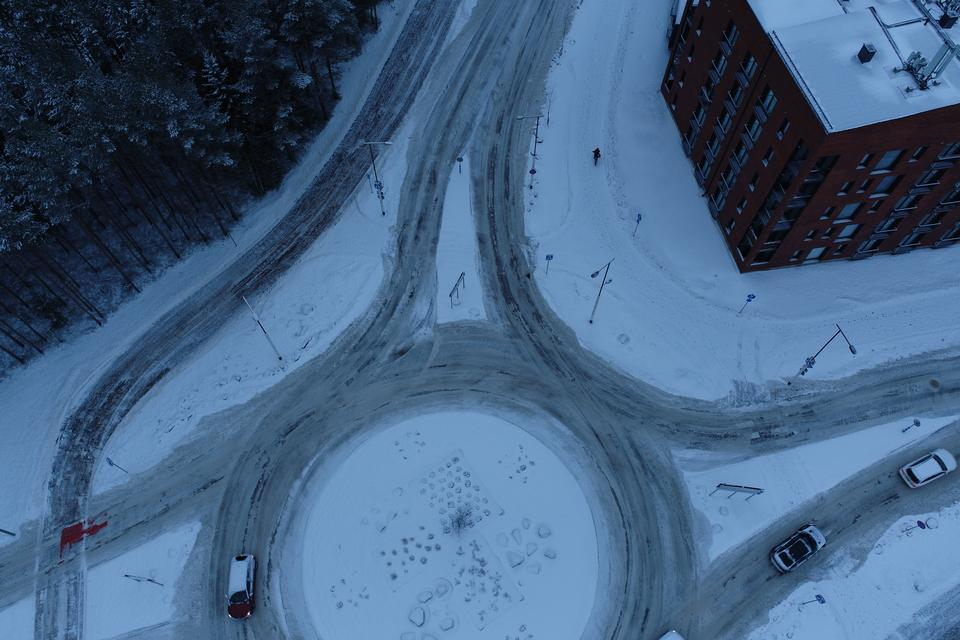intersection: (0, 437, 118, 640)
roundabout: (132, 335, 750, 640)
